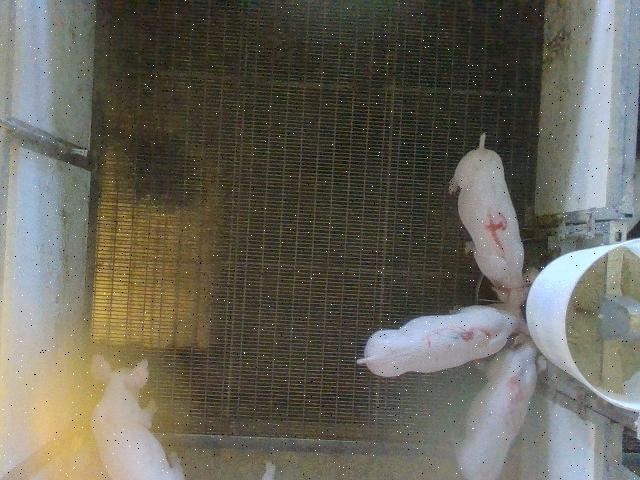pig-3: (358, 288, 528, 377)
pig-4: (449, 134, 538, 301)
pig-5: (458, 342, 536, 479)
